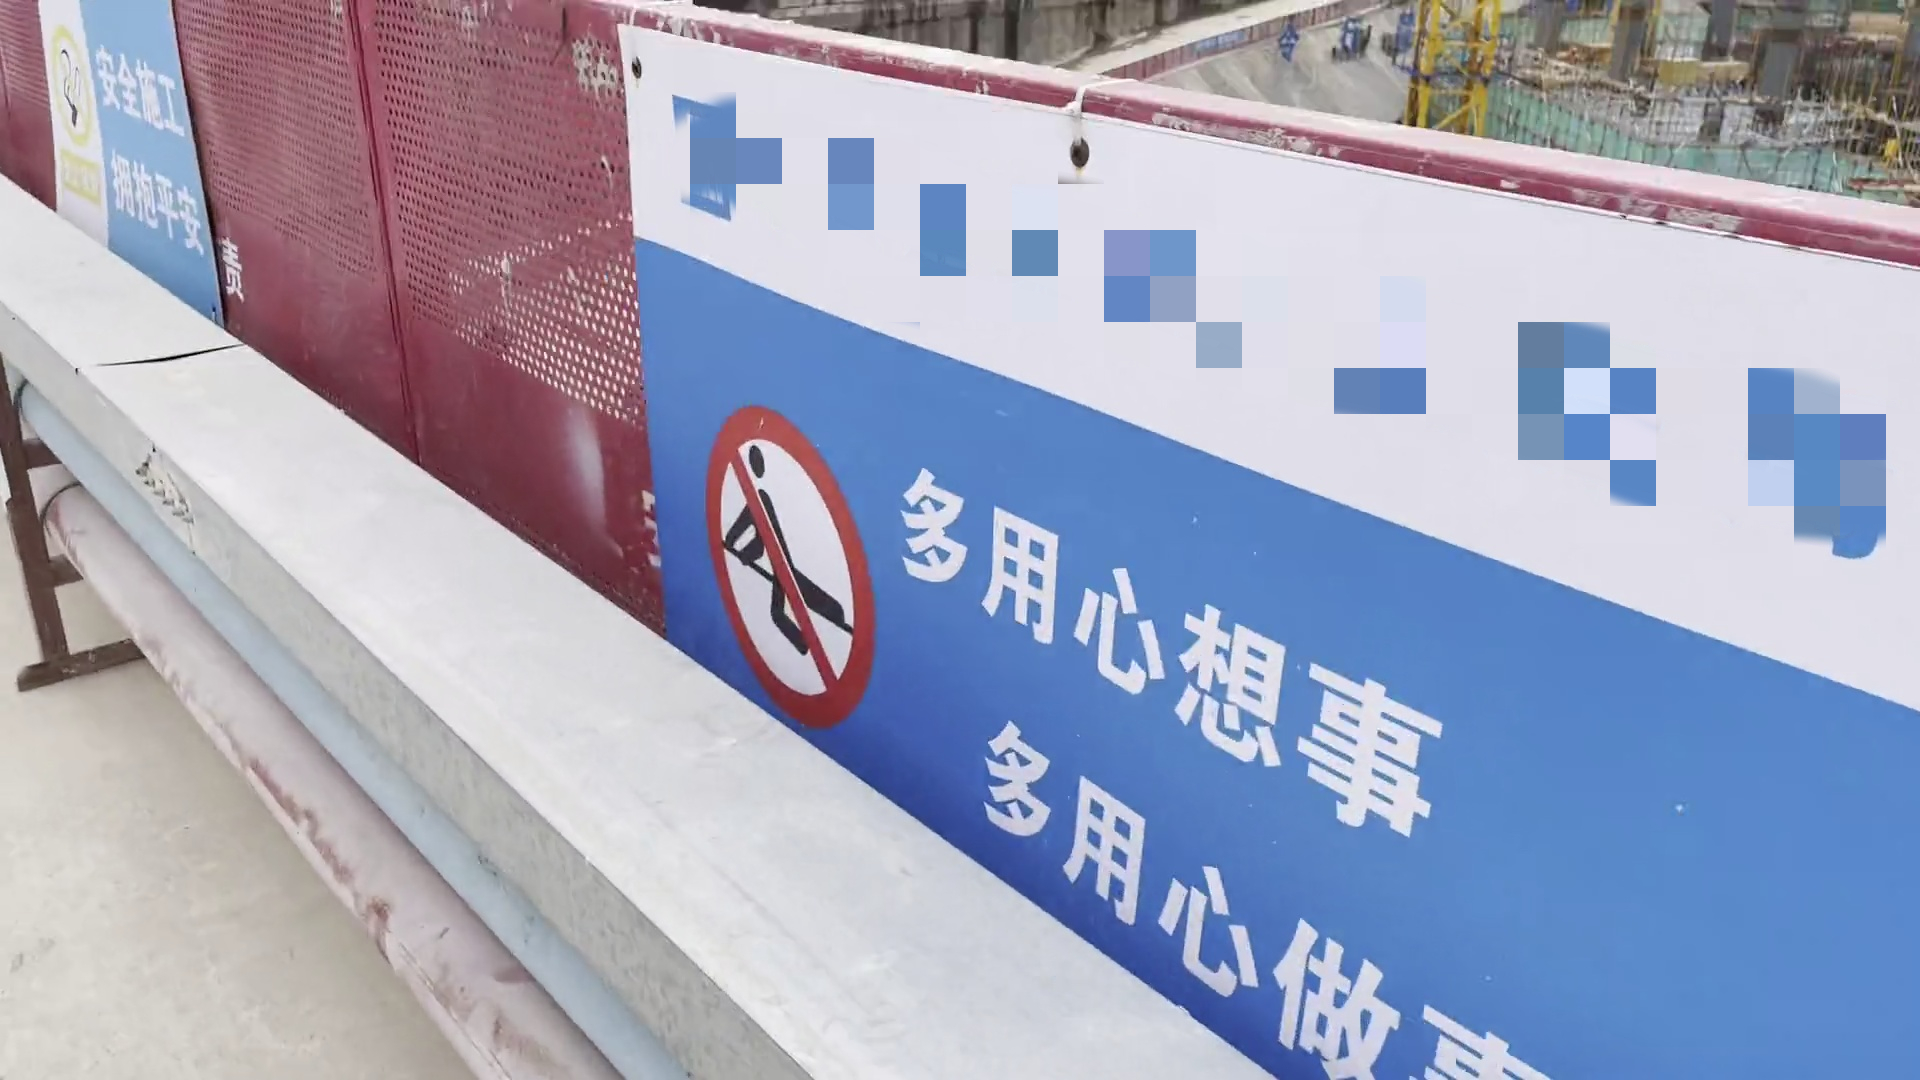fence: (1, 1, 1100, 1004), (1079, 92, 1920, 1080)
slogan: (596, 15, 1920, 1080), (30, 1, 256, 357)
